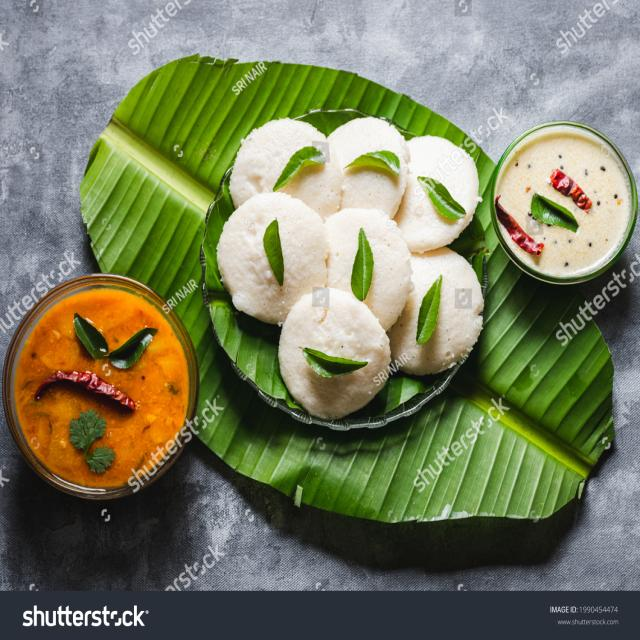IDLI: (215, 115, 486, 418)
